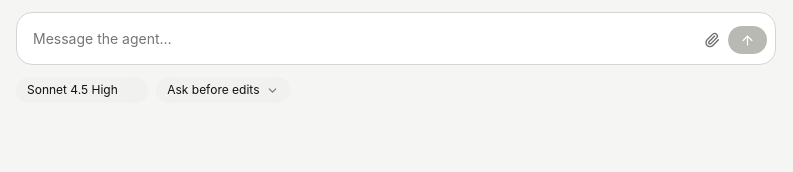
Test: Composer send mode › leaves a newer draft alone when an older send is refused
Step 1. Click the text box labelled "Message the agent…" → (362, 38), box [33, 21, 690, 56]
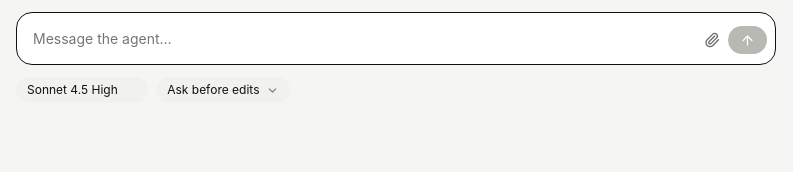
Step 2. Type keys "first message"
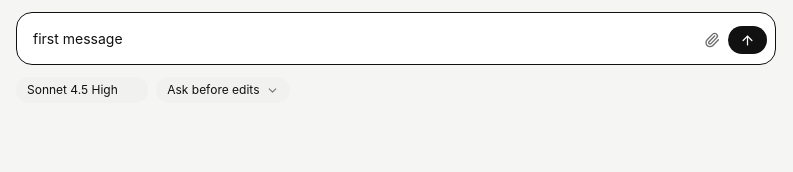
Step 3. Click the button named "Send" → (748, 40), box [728, 26, 767, 54]
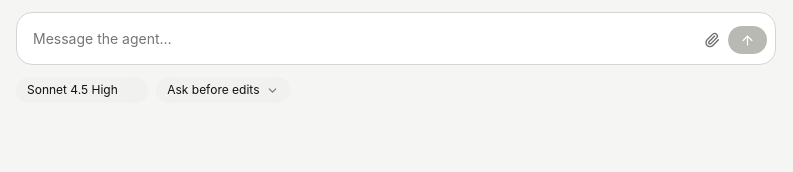
Step 4. Click the text box labelled "Message the agent…" → (362, 38), box [33, 21, 690, 56]
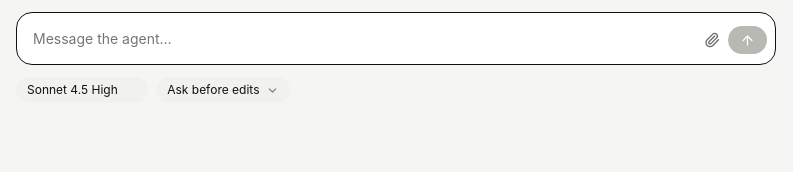
Step 5. Type keys "second message"
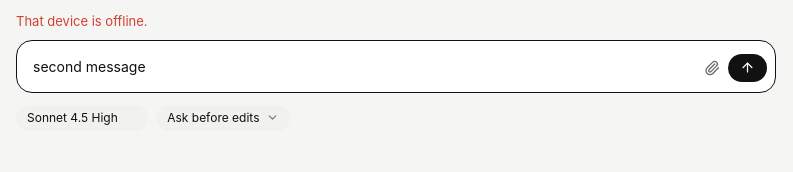
Expected: the text "That device is offline." is shown, [16, 13, 148, 29]
Expected: the text box named "Message the agent…" holds "second message", [33, 48, 690, 84]
